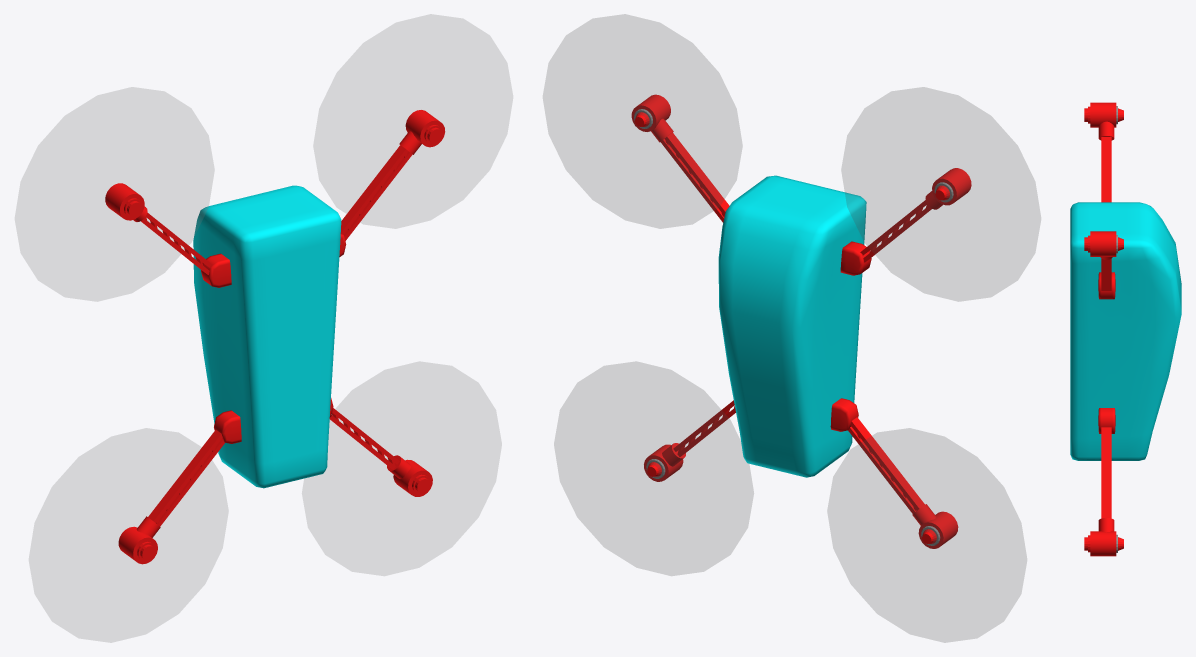
File: Drone_v2.FBX
3 views of the same model, side by side, from view 1: azimuth 30°, elevation 25°; view 2: azimuth 150°, elevation 25°; view 3: azimuth 270°, elevation 25° (orthographic). The views are drawn at different scales.
Visible parts, largest first — view 1: Drone_v2; view 2: Drone_v2; view 3: Drone_v2.
Boxes of the visible parts, x1,y1,x2,y2 form: Drone_v2: [15, 14, 512, 642]; Drone_v2: [543, 14, 1040, 642]; Drone_v2: [1070, 102, 1181, 556].
Size of the model in its own units: 131 by 139 by 28.83.
